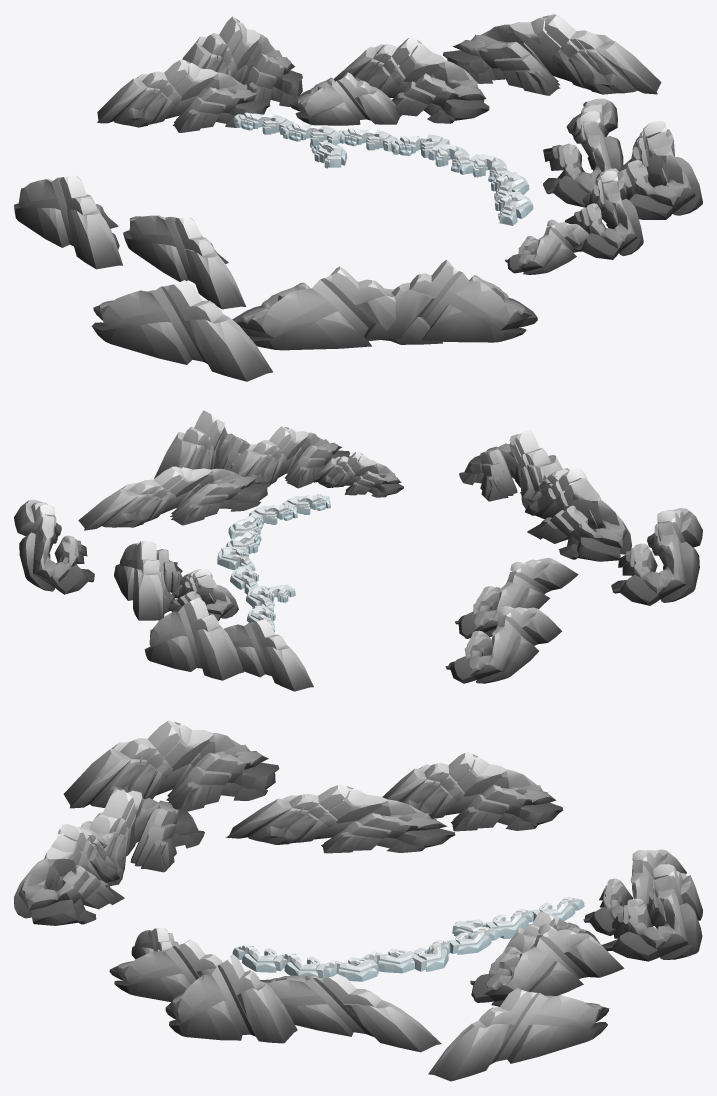
3 views of the same model, one above another, from view 1: azimuth 30°, elevation 25°; view 2: azimuth 150°, elevation 25°; view 3: azimuth 270°, elevation 25° (orthographic). The views are drawn at different scales.
Visible parts, largest first — view 1: DistantBackgroundMountains (12), DistantBackgroundMountains (13), DistantBackgroundMountains (8), DistantBackgroundMountains (9), DistantBackgroundMountains (11), DistantBackgroundMountains, DistantBackgroundMountains (7), DistantBackgroundMountains (3), DistantBackgroundMountains (10), DistantBackgroundMountains (6), DistantBackgroundMountains (4), DistantBackgroundMountains (2) (+11 smaller); view 2: DistantBackgroundMountains (4), DistantBackgroundMountains (8), DistantBackgroundMountains (13), DistantBackgroundMountains (10), DistantBackgroundMountains (7), DistantBackgroundMountains (12), DistantBackgroundMountains (9), DistantBackgroundMountains (2), DistantBackgroundMountains (3), DistantBackgroundMountains, DistantBackgroundMountains (11), DistantBackgroundMountains (6) (+9 smaller); view 3: DistantBackgroundMountains (13), DistantBackgroundMountains (3), DistantBackgroundMountains (12), DistantBackgroundMountains (7), DistantBackgroundMountains (9), DistantBackgroundMountains (6), DistantBackgroundMountains (4), DistantBackgroundMountains, DistantBackgroundMountains (10), DistantBackgroundMountains (8), DistantBackgroundMountains (2), DistantBackgroundMountains (11) (+10 smaller).
Part boxes in pixels (x1,y1,x2,y2): DistantBackgroundMountains (12): [443, 14, 661, 95]; DistantBackgroundMountains (13): [91, 280, 272, 381]; DistantBackgroundMountains (8): [232, 266, 442, 350]; DistantBackgroundMountains (9): [364, 260, 537, 342]; DistantBackgroundMountains (11): [97, 59, 270, 132]; DistantBackgroundMountains: [334, 37, 489, 123]; DistantBackgroundMountains (7): [14, 175, 122, 269]; DistantBackgroundMountains (3): [123, 215, 246, 309]; DistantBackgroundMountains (10): [182, 16, 302, 106]; DistantBackgroundMountains (6): [618, 121, 702, 219]; DistantBackgroundMountains (4): [543, 98, 623, 207]; DistantBackgroundMountains (2): [565, 168, 643, 259]; DistantBackgroundMountains (4): [78, 466, 270, 530]; DistantBackgroundMountains (8): [520, 468, 631, 561]; DistantBackgroundMountains (13): [611, 508, 702, 605]; DistantBackgroundMountains (10): [144, 597, 243, 680]; DistantBackgroundMountains (7): [445, 606, 561, 683]; DistantBackgroundMountains (12): [14, 499, 94, 594]; DistantBackgroundMountains (9): [459, 429, 562, 508]; DistantBackgroundMountains (2): [227, 426, 350, 488]; DistantBackgroundMountains (3): [455, 557, 578, 638]; DistantBackgroundMountains: [114, 541, 182, 620]; DistantBackgroundMountains (11): [224, 619, 313, 691]; DistantBackgroundMountains (6): [154, 410, 250, 478]; DistantBackgroundMountains (13): [63, 720, 279, 811]; DistantBackgroundMountains (3): [226, 784, 455, 853]; DistantBackgroundMountains (12): [428, 988, 609, 1081]; DistantBackgroundMountains (7): [382, 752, 563, 831]; DistantBackgroundMountains (9): [14, 824, 124, 925]; DistantBackgroundMountains (6): [165, 954, 297, 1043]; DistantBackgroundMountains (4): [260, 974, 441, 1052]; DistantBackgroundMountains: [470, 923, 624, 1006]; DistantBackgroundMountains (10): [602, 864, 702, 961]; DistantBackgroundMountains (8): [80, 788, 204, 885]; DistantBackgroundMountains (2): [109, 939, 222, 1002]; DistantBackgroundMountains (11): [583, 849, 686, 935].
Bounding box in the file's own units: 2497 × 294 × 2218.
Materials: 1 (1 with a texture image).
